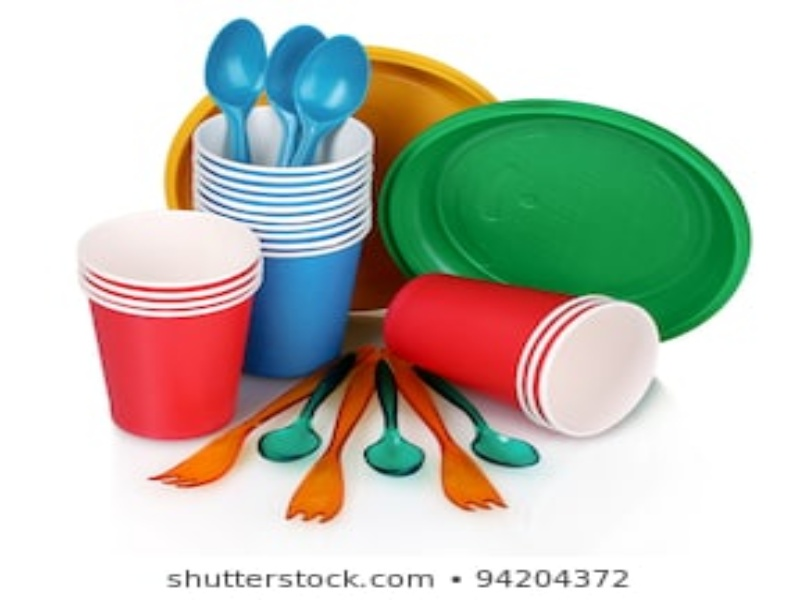plastic-cup: (189, 105, 376, 379), (378, 272, 676, 439), (67, 207, 260, 444)
plastic-plate: (380, 97, 783, 339)
plastic-silverware: (148, 357, 348, 493), (389, 364, 512, 520), (288, 365, 382, 531), (413, 367, 559, 472), (287, 25, 374, 161), (200, 8, 272, 166), (260, 353, 358, 466), (364, 356, 430, 505), (269, 13, 324, 163)
